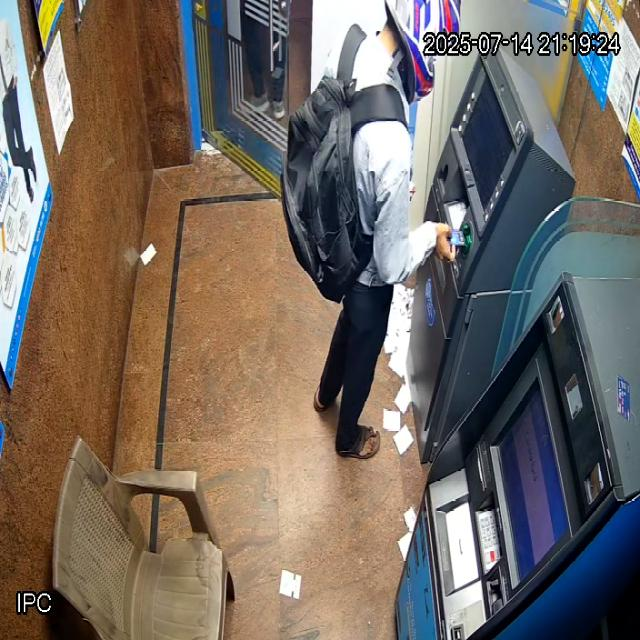no_helmet: (378, 0, 461, 104)
